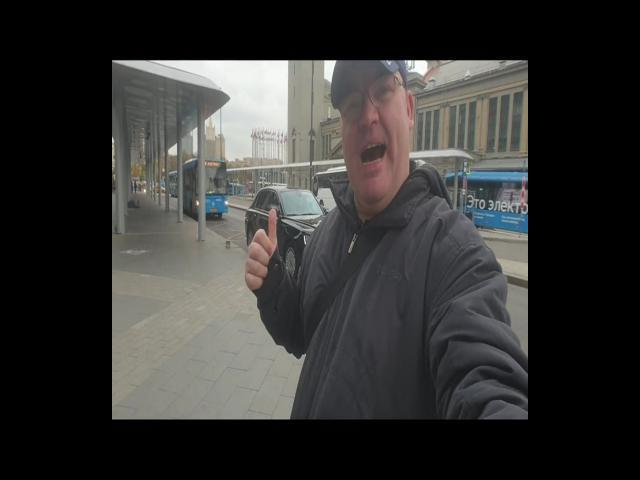bus: (178, 160, 230, 222), (312, 166, 350, 212)
